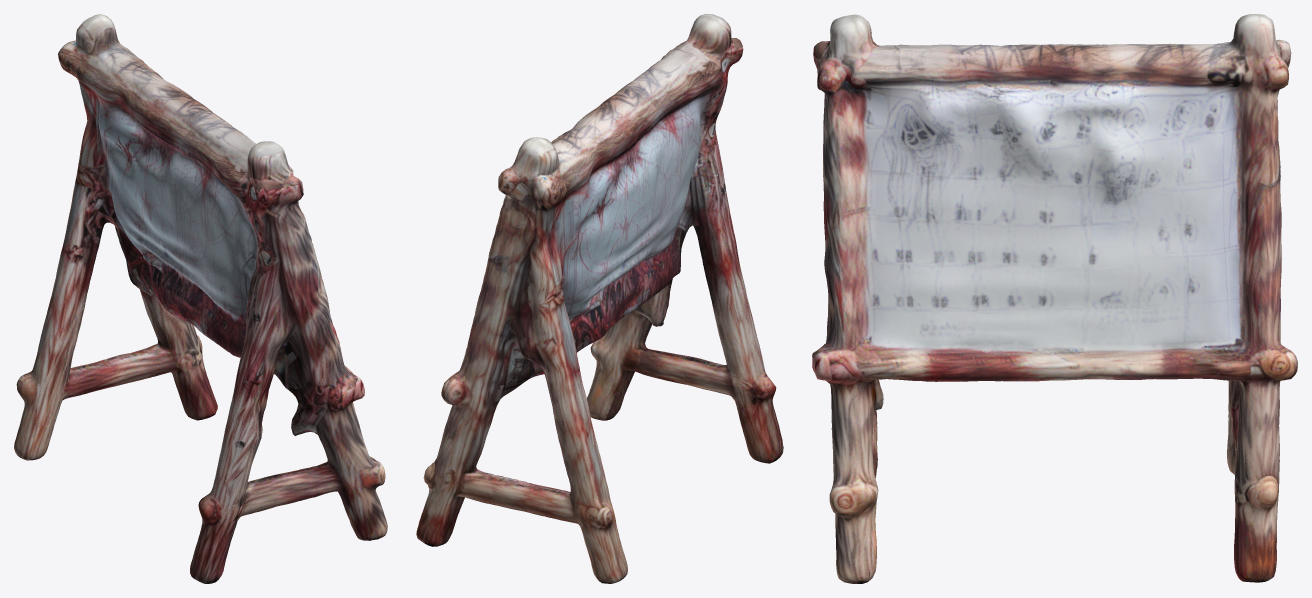
3 views of the same model, side by side, from view 1: azimuth 30°, elevation 25°; view 2: azimuth 150°, elevation 25°; view 3: azimuth 270°, elevation 25° (orthographic). The views are drawn at different scales.
Visible parts, largest first — view 1: Mesh_0; view 2: Mesh_0; view 3: Mesh_0.
Boxes of the visible parts, bbox=[...] form: Mesh_0: bbox=[14, 14, 387, 583]; Mesh_0: bbox=[416, 14, 783, 583]; Mesh_0: bbox=[812, 14, 1297, 583].
Bounding box in the file's own units: 59.72 × 120 × 104.
1 material, 1 textured.
